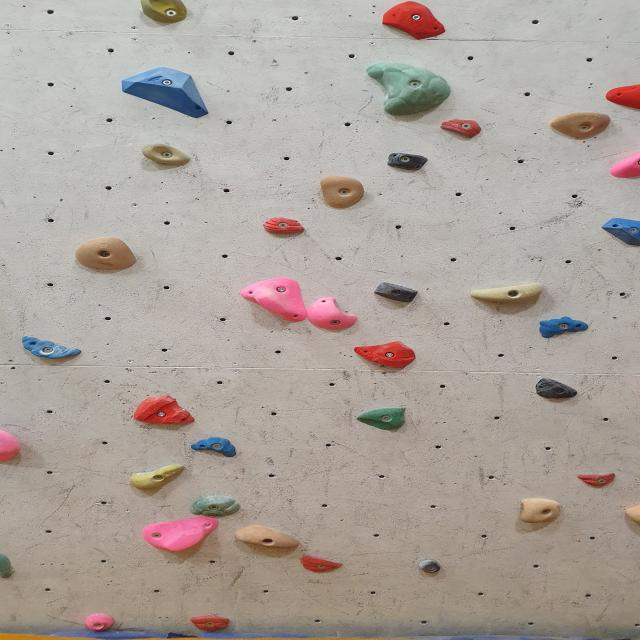Crimp: (379, 0, 446, 41), (125, 397, 196, 430), (356, 340, 418, 371), (20, 335, 82, 363), (533, 376, 584, 398), (297, 552, 346, 574), (196, 497, 246, 517), (605, 153, 640, 181), (604, 84, 640, 110), (438, 118, 482, 138), (194, 438, 240, 455), (262, 217, 304, 235), (573, 471, 620, 487), (195, 614, 237, 630), (86, 612, 116, 630)
Jug: (547, 110, 617, 139), (76, 238, 134, 271), (304, 298, 354, 330), (318, 180, 363, 210), (518, 496, 563, 525), (140, 0, 184, 23), (142, 144, 187, 166), (0, 424, 24, 463)
Pinch: (131, 460, 188, 492), (235, 524, 297, 551), (476, 281, 544, 304), (376, 280, 420, 305), (388, 152, 429, 172), (416, 560, 440, 574)
Sloper: (366, 61, 451, 118), (121, 68, 208, 120), (140, 513, 217, 554), (244, 276, 306, 322), (599, 216, 640, 248), (354, 406, 410, 429), (536, 316, 587, 338), (0, 550, 13, 580)
